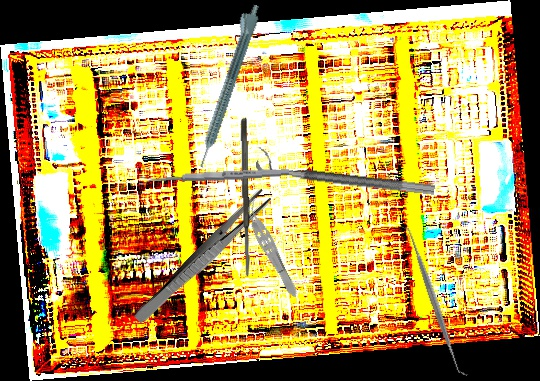Dressing Forceps: (131, 186, 274, 329)
Fixation Ring: (255, 147, 437, 196)
Handpiece: (188, 0, 263, 170)
Spatula Surgical: (400, 222, 469, 381), (240, 117, 251, 279)
Surgical Spoon: (138, 167, 290, 185)
Tissue Forceps: (238, 196, 304, 301)
